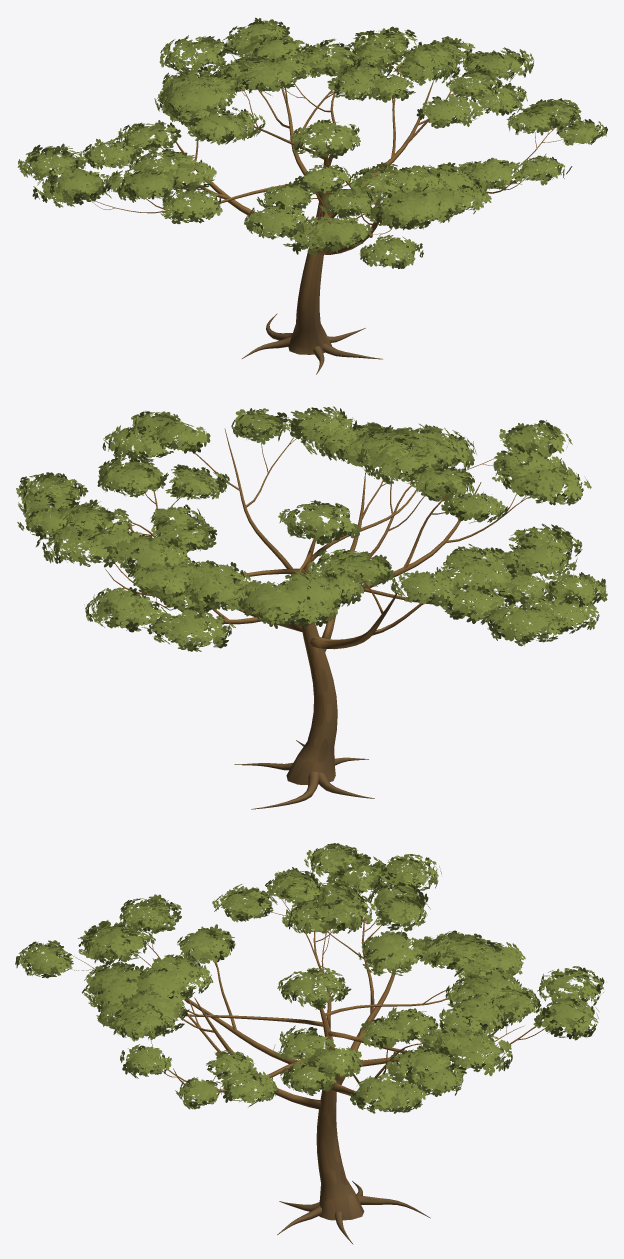
File: tree.gltf
3 views of the same model, one above another, from view 1: azimuth 30°, elevation 25°; view 2: azimuth 150°, elevation 25°; view 3: azimuth 270°, elevation 25° (orthographic). The views are drawn at different scales.
Parts seen in each view (by area): view 1: Tree_LOD0; view 2: Tree_LOD0; view 3: Tree_LOD0.
Part boxes in pixels (bbox=[...]): Tree_LOD0: bbox=[17, 17, 607, 374]; Tree_LOD0: bbox=[16, 406, 607, 809]; Tree_LOD0: bbox=[15, 843, 604, 1244].
Size of the model in its own units: 32.44 by 14.68 by 31.44.
2 materials, 2 textured.
